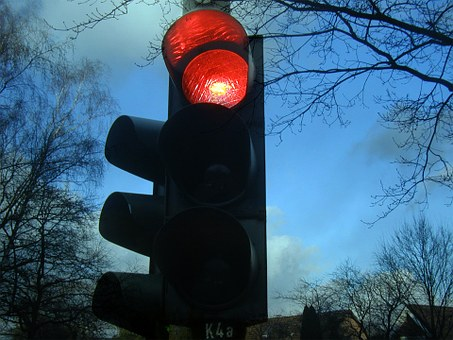trafic: (149, 9, 266, 314)
